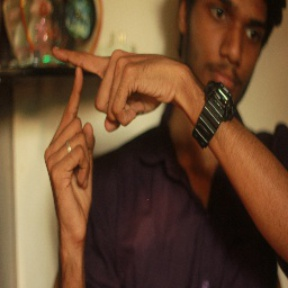T: (38, 39, 122, 146)
